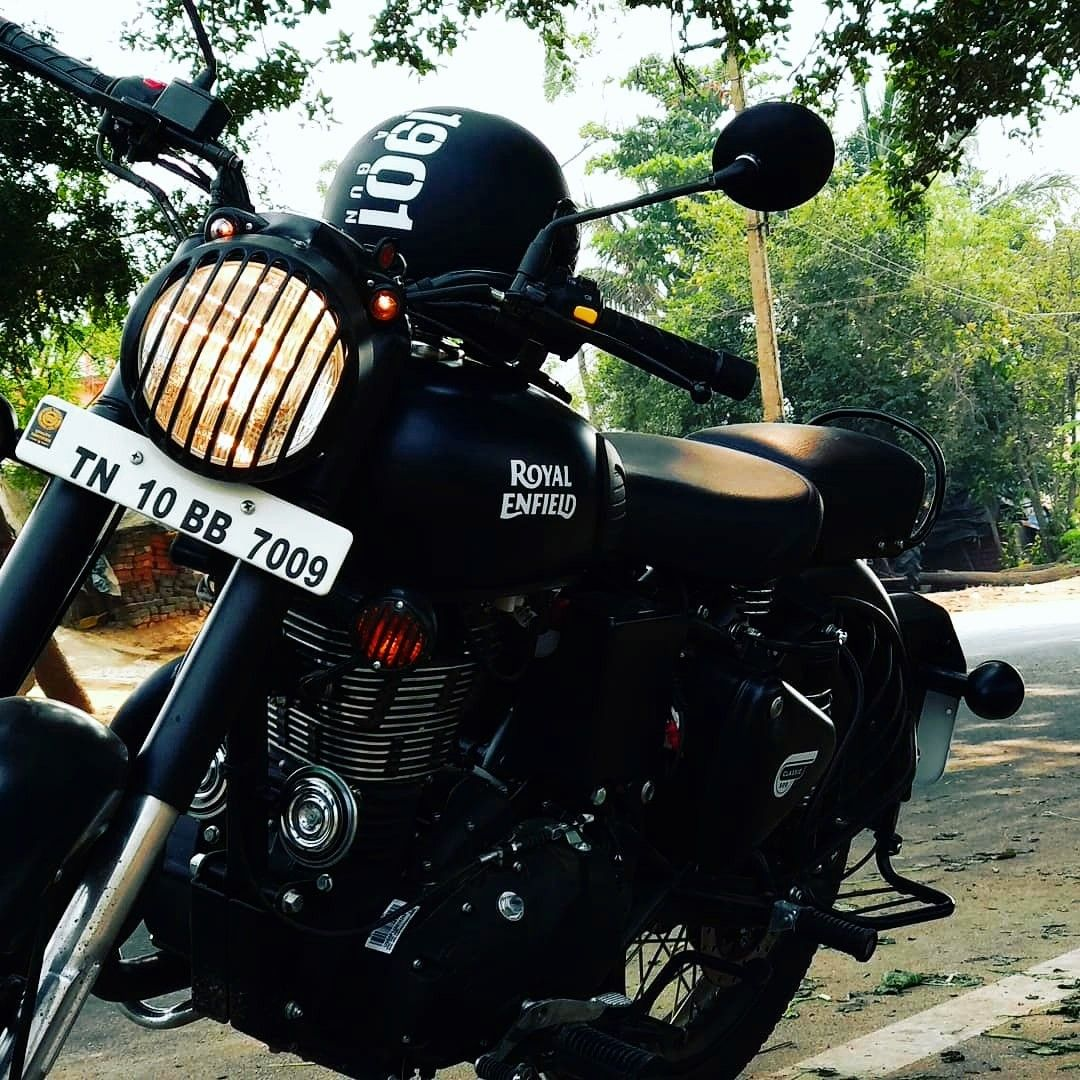numberplate: (14, 389, 358, 595)
